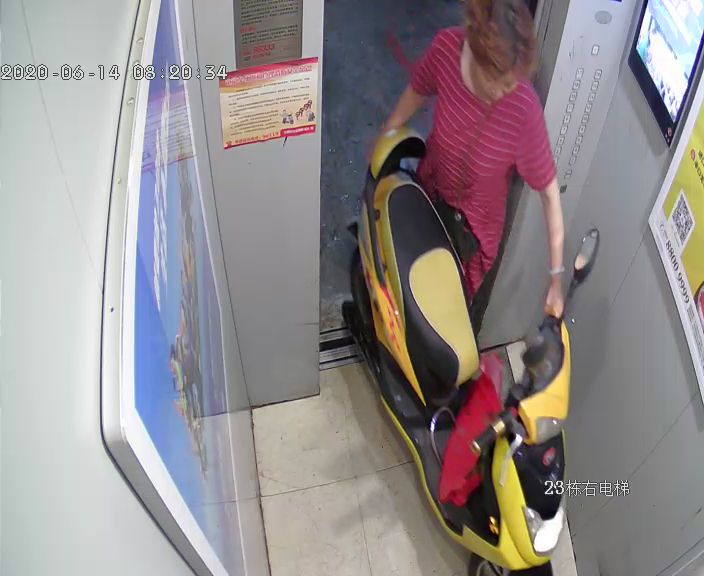Electric-bicycle: (347, 129, 601, 574)
